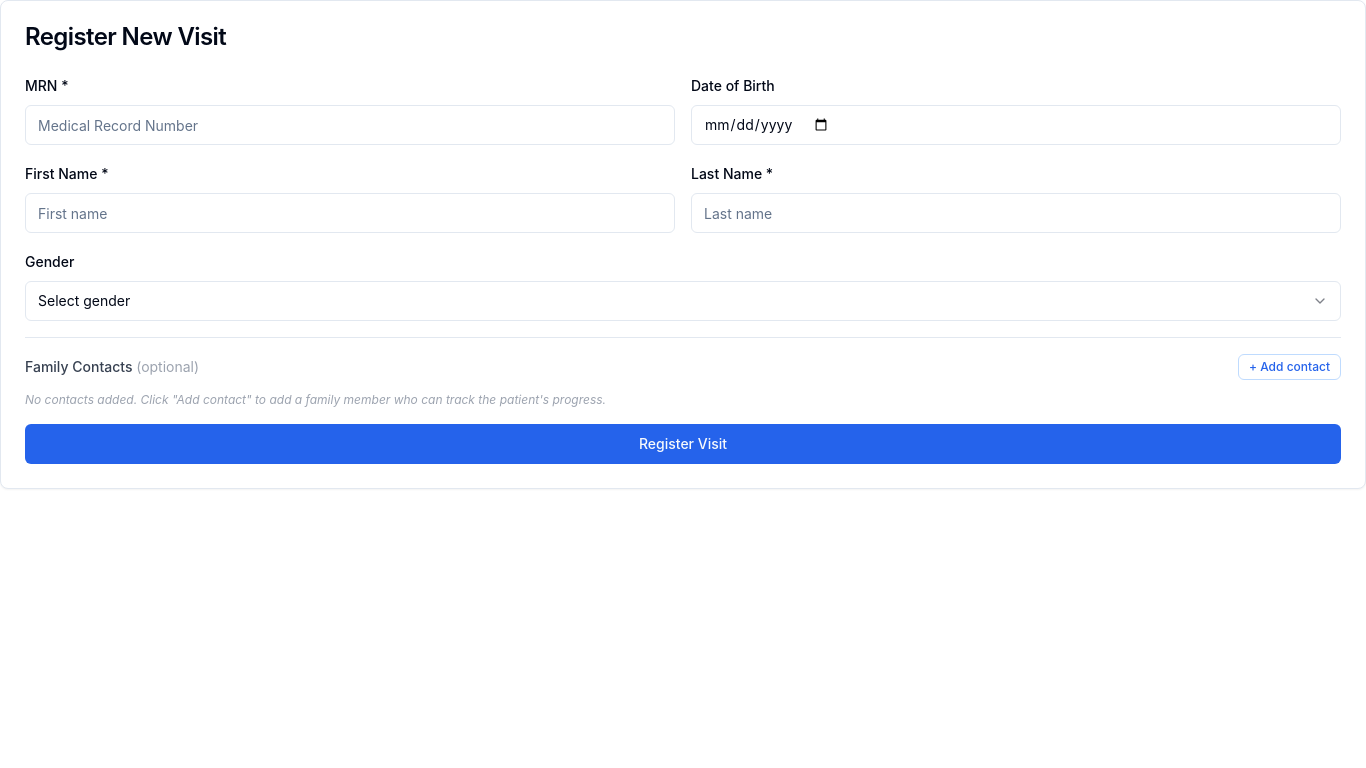
it: CreateVisitForm › shows error when family contact has name but no phone
In the field labelled "MRN *": (350, 125) top-left (25, 105), bottom-right (675, 145), type "MRN001"
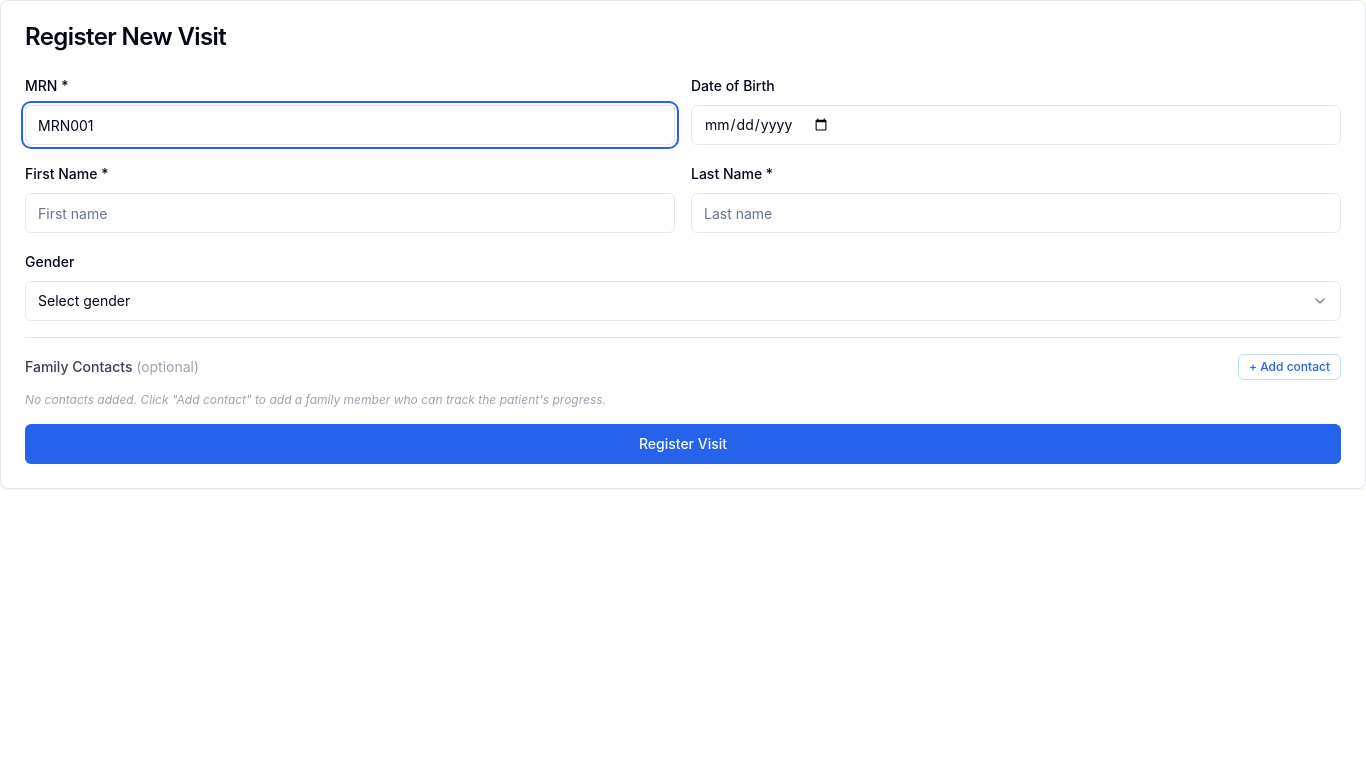
In the field labelled "First Name *": (350, 213) top-left (25, 193), bottom-right (675, 233), type "John"
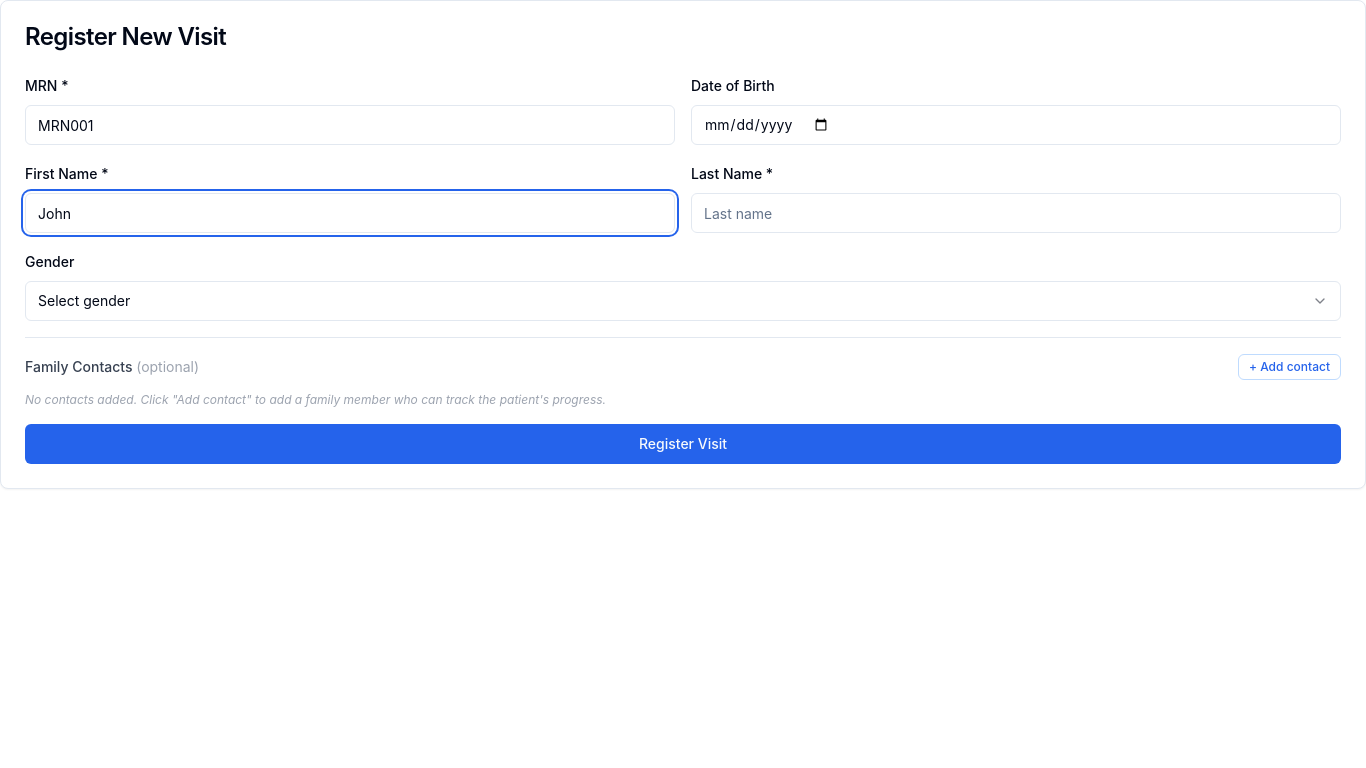
In the field labelled "Last Name *": (1016, 213) top-left (691, 193), bottom-right (1341, 233), type "Doe"
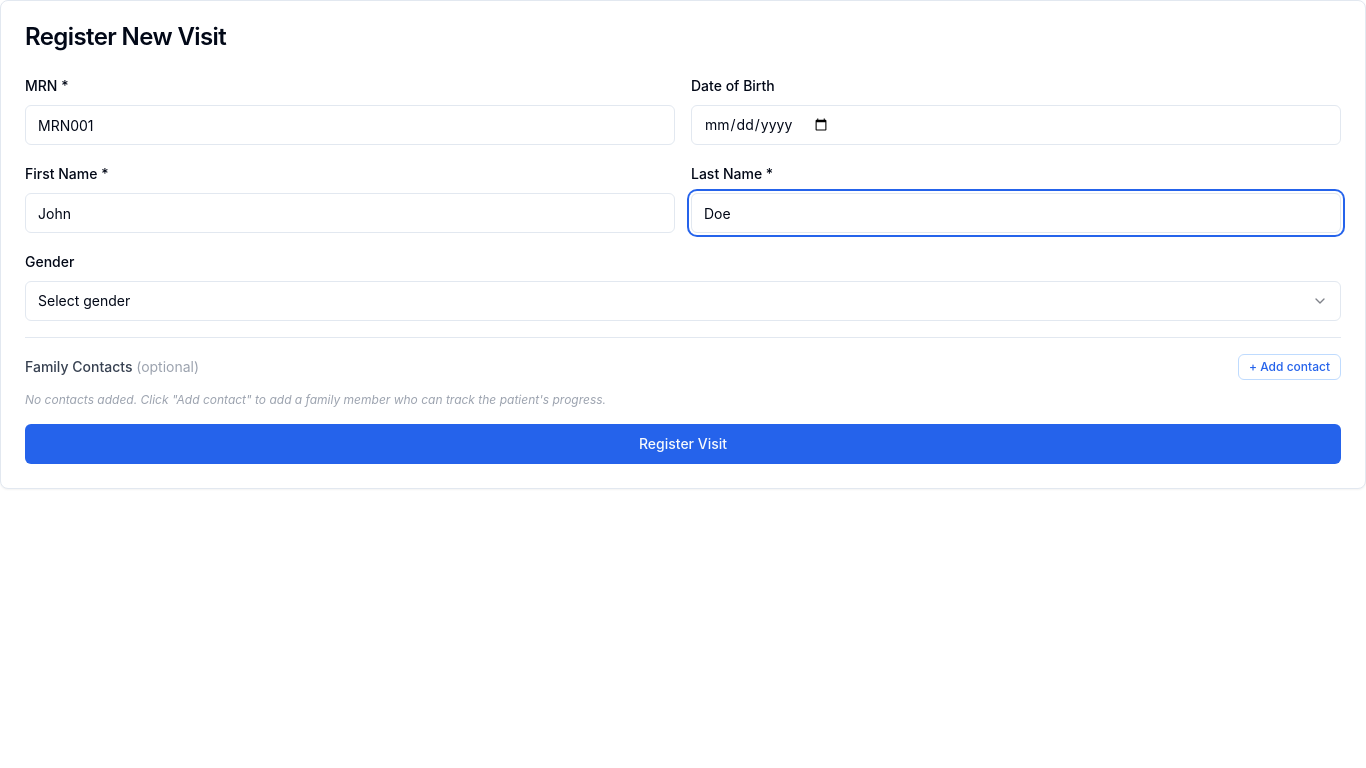
Click the button "+ Add contact": click(1290, 367) top-left (1238, 354), bottom-right (1341, 380)
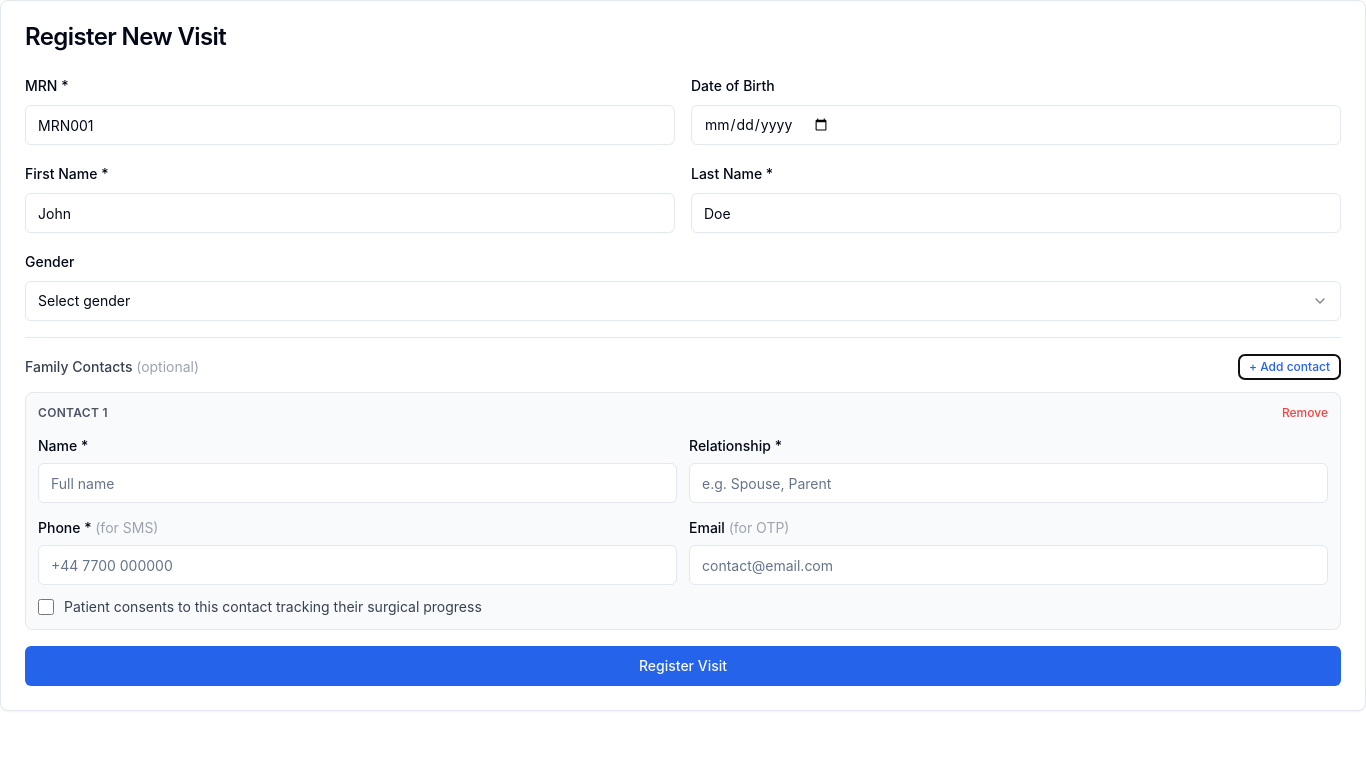
In the field labelled "Name *": (358, 483) top-left (38, 463), bottom-right (677, 503), type "Jane Doe"
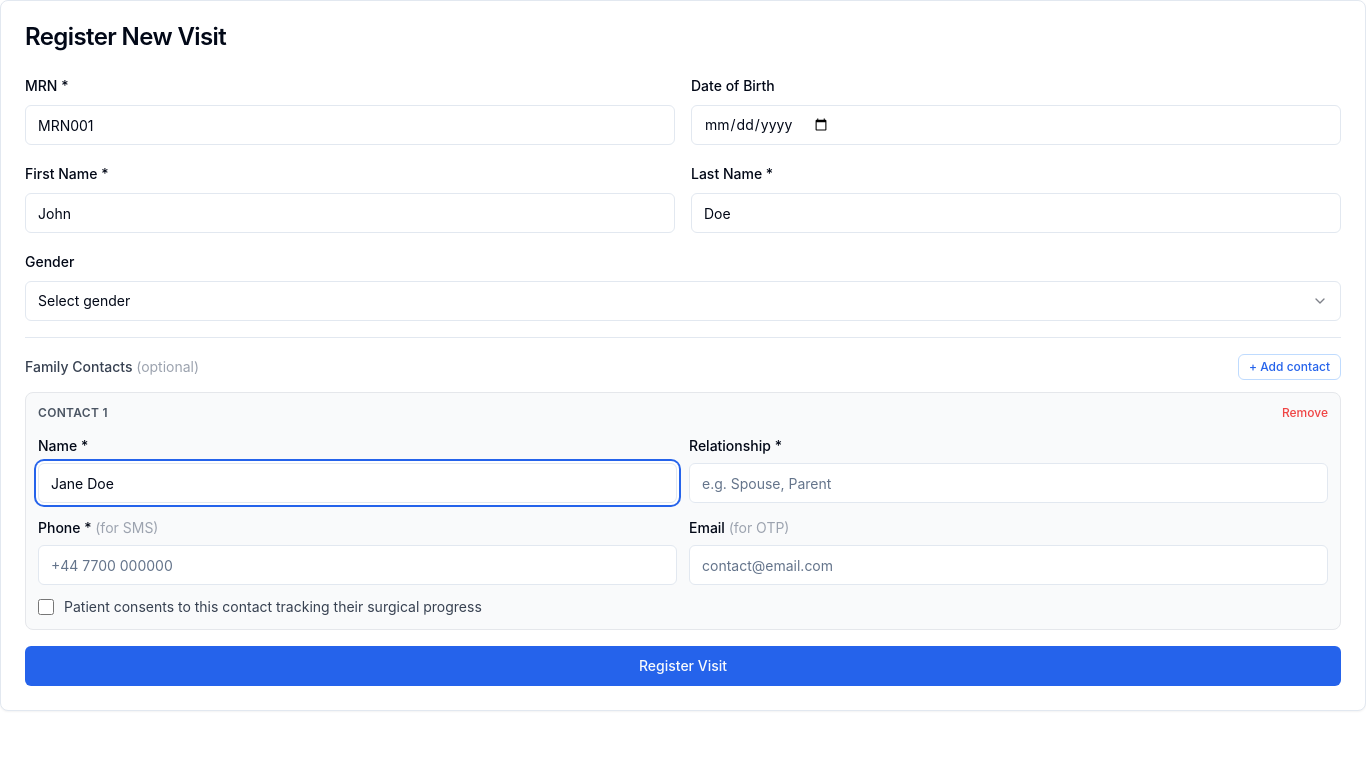
Click the button "Register Visit": click(683, 666) top-left (25, 646), bottom-right (1341, 686)
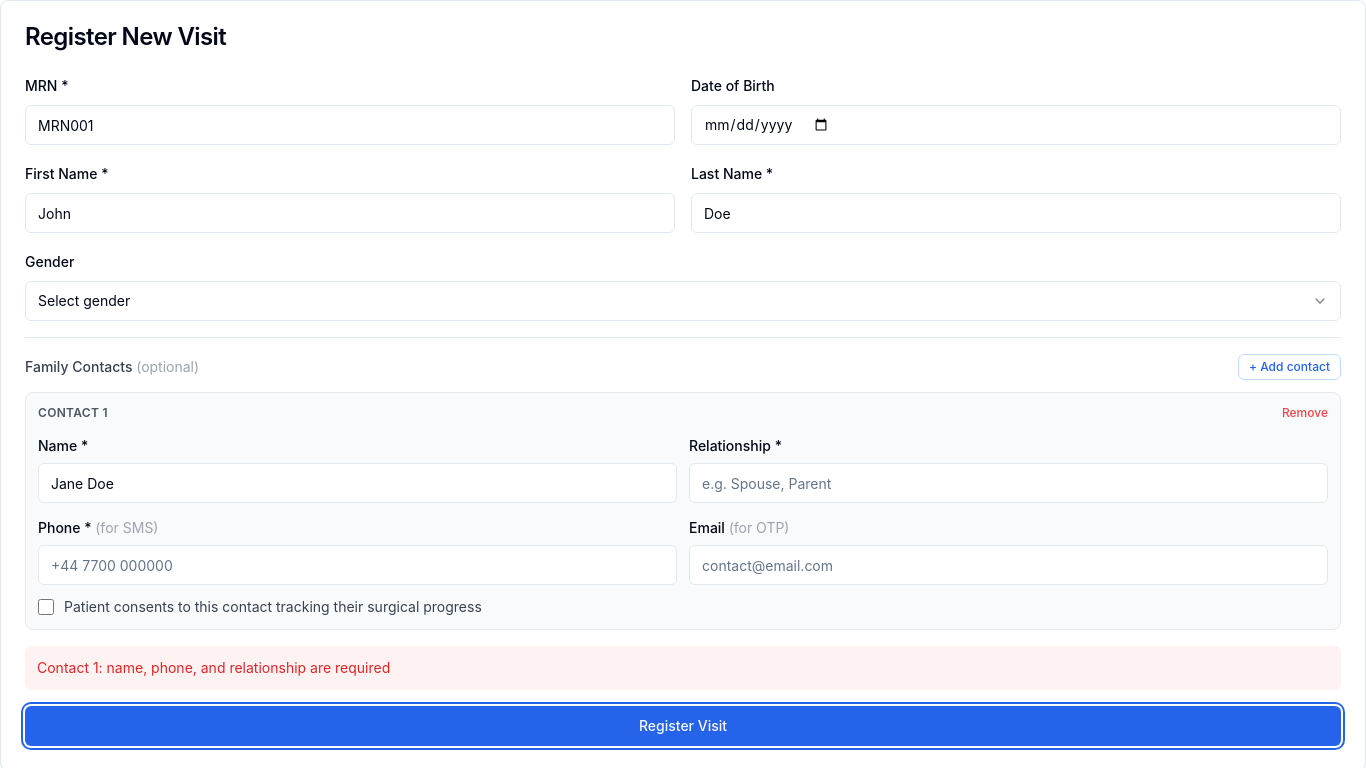
Result: the text "Contact 1: name, phone, and relationship are required" is shown at top-left (25, 646), bottom-right (1341, 690)
